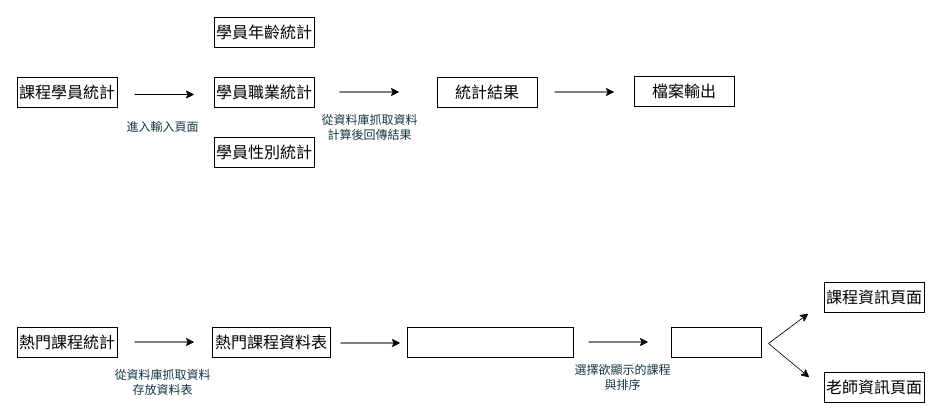
The diagram is 942 pixels wide and 420 high, and some of its shapes have lost their labels. The centre of each missing label's shape, as x and y in pixels:
"管理者手動調整頁面" belongs at point (490, 342).
"首頁呈現" belongs at point (716, 342).
